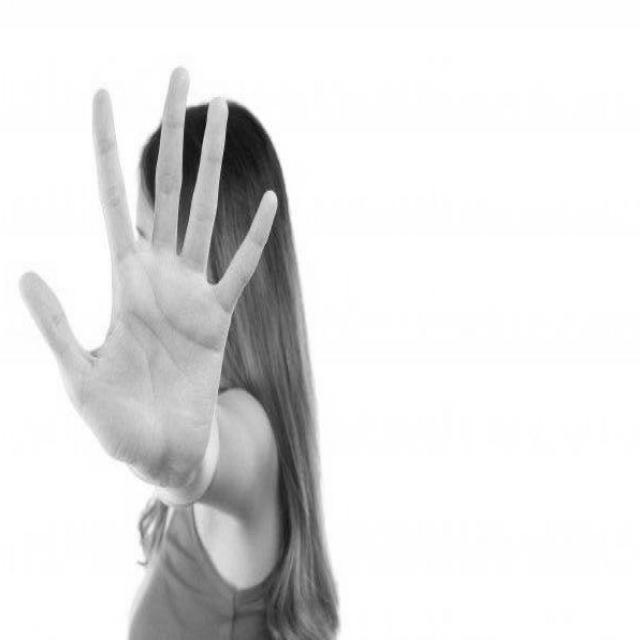stop: (13, 57, 282, 498)
